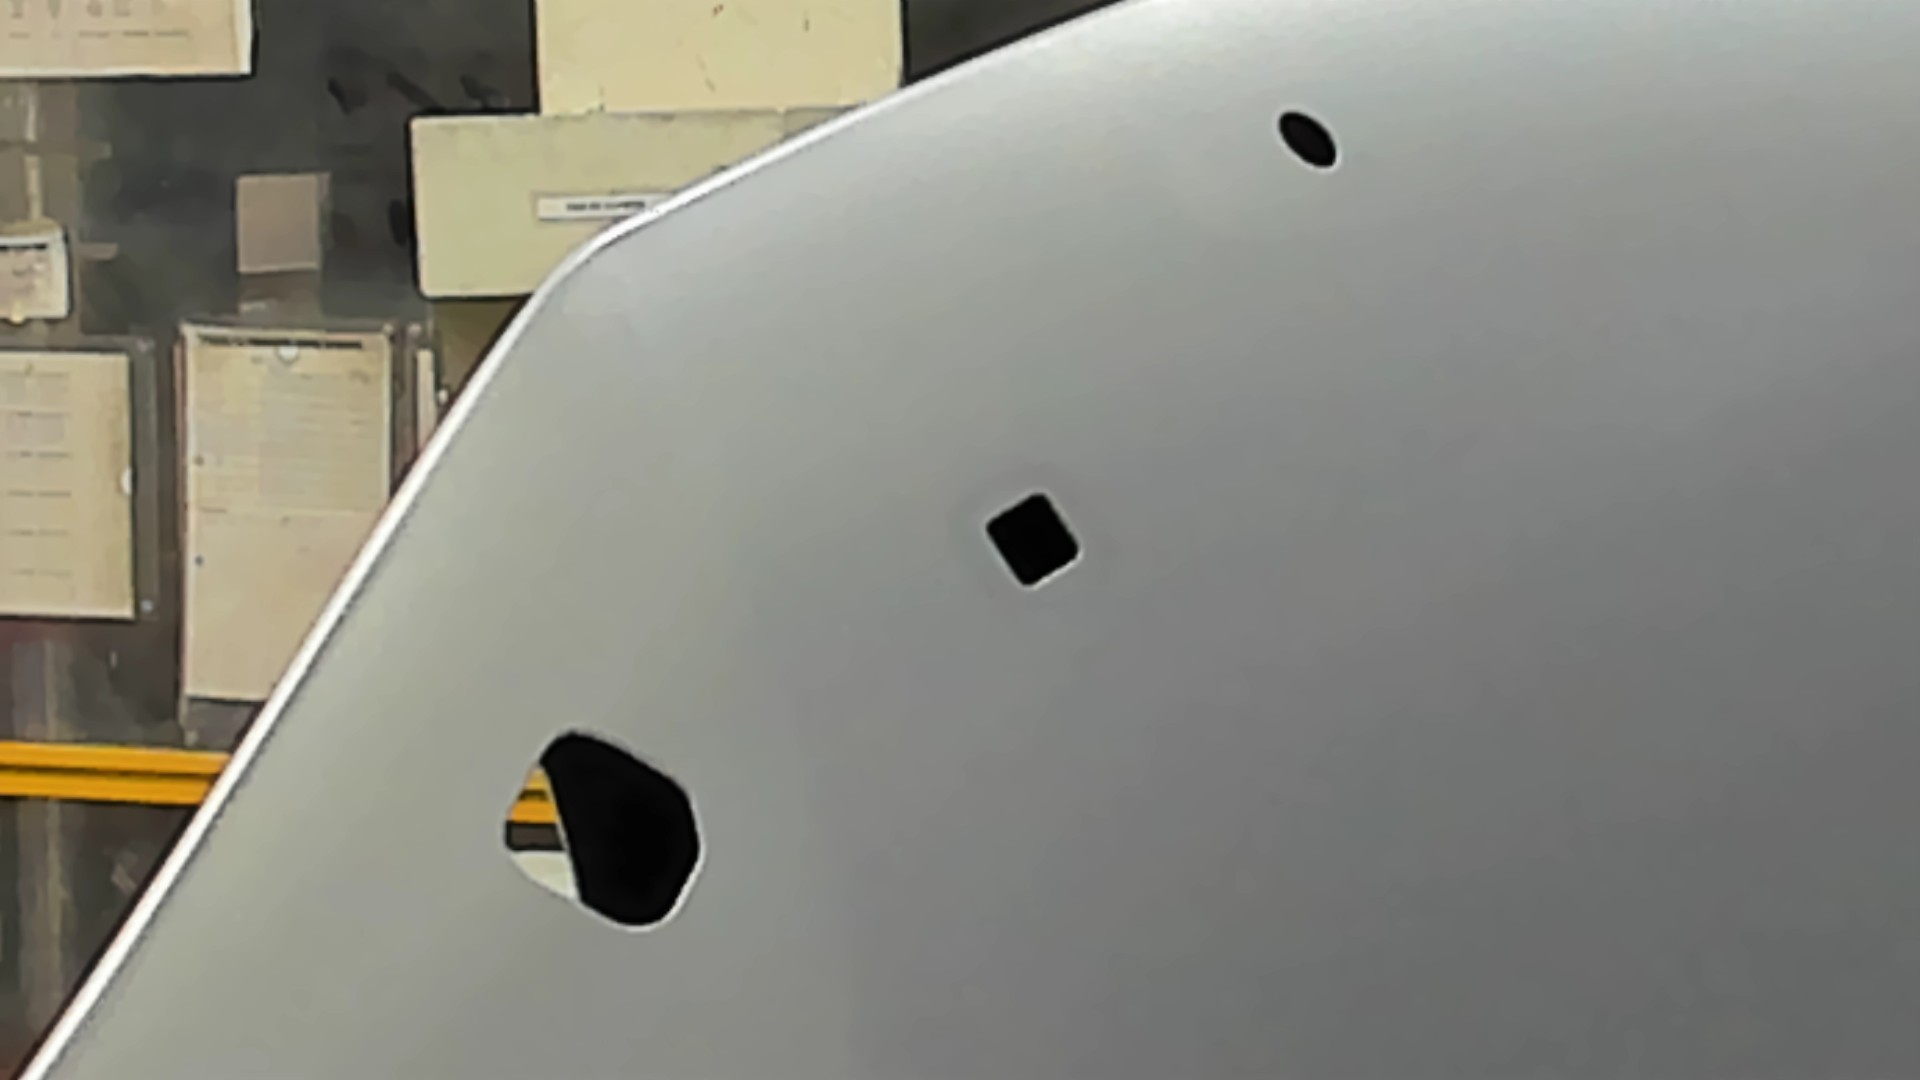chico: (1275, 105, 1338, 173)
grande: (498, 723, 705, 934)
mediano: (978, 484, 1083, 589)
